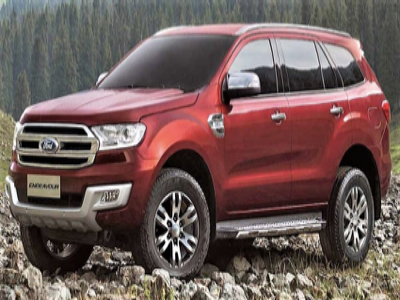licence: (25, 177, 64, 196)
